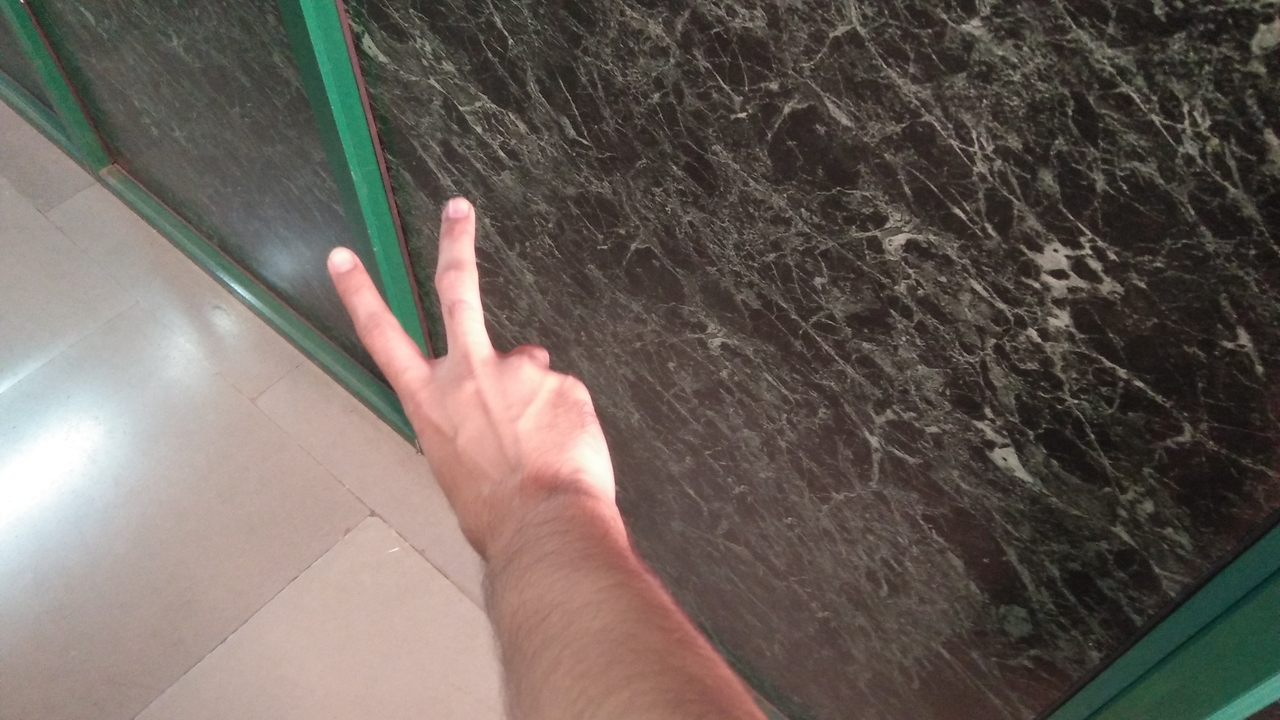fingertip: (312, 236, 366, 292), (430, 182, 480, 232)
